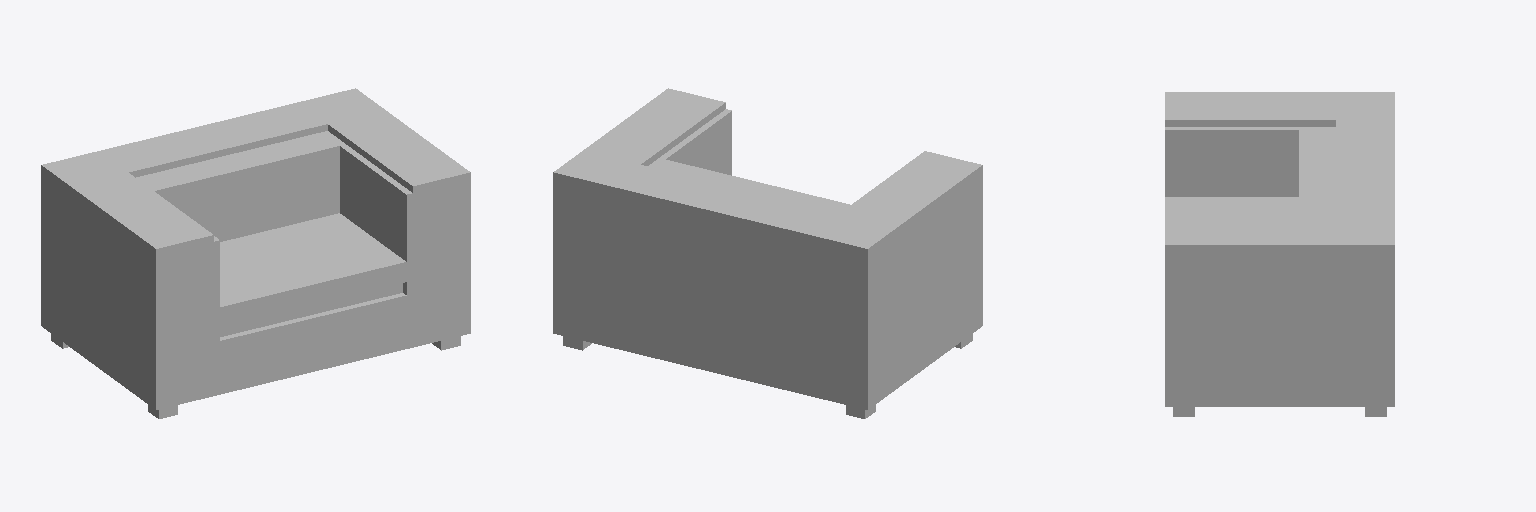
The model's file is Couch3.obj.
3 renders of one model, left to right at view 1: azimuth 30°, elevation 25°; view 2: azimuth 150°, elevation 25°; view 3: azimuth 270°, elevation 25°, orthographic.
Parts seen in each view (by area): view 1: Couch3; view 2: Couch3; view 3: Couch3.
Boxes of the visible parts, box(x1,y1,x2,y2) form: Couch3: box(41, 88, 470, 418); Couch3: box(553, 88, 982, 418); Couch3: box(1165, 92, 1394, 416).
Bounding box in the file's own units: 49 × 26 × 31.